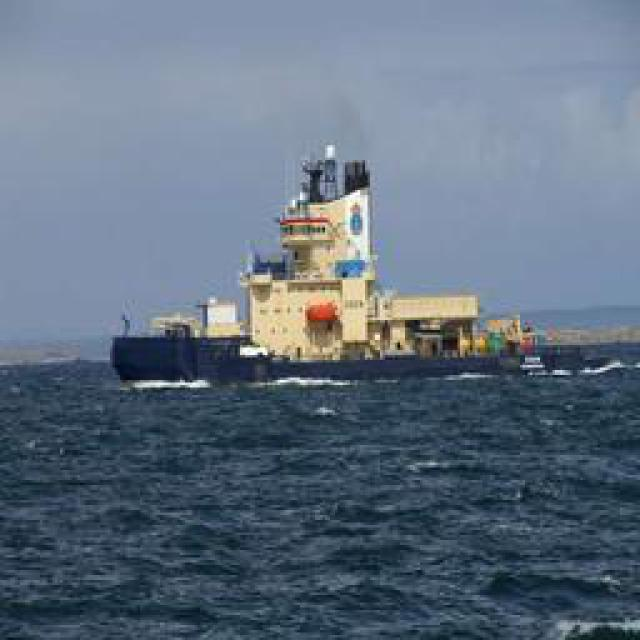Ship: (106, 137, 550, 398)
